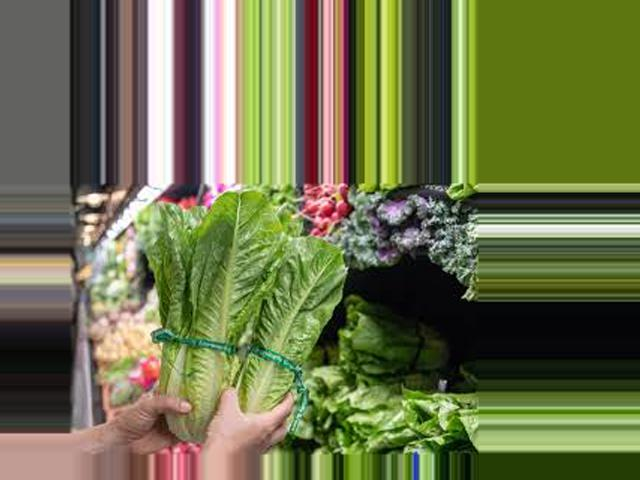lettuce: (146, 201, 348, 456)
